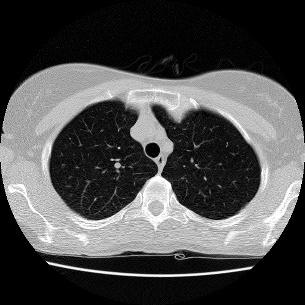PN: (113, 162, 121, 170)
